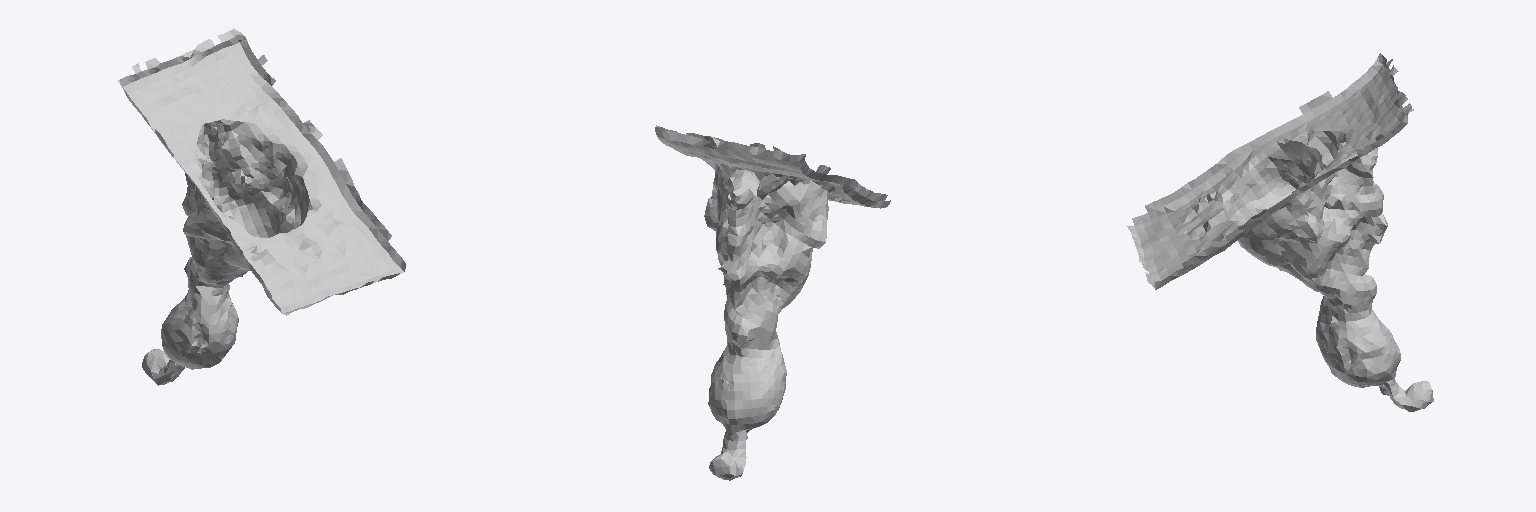
Rendered from OldManLow.obj.
3 renders of one model, left to right at view 1: azimuth 30°, elevation 25°; view 2: azimuth 150°, elevation 25°; view 3: azimuth 270°, elevation 25°, orthographic.
Bounding box in the file's own units: 0.41 × 0.7456 × 0.6198.